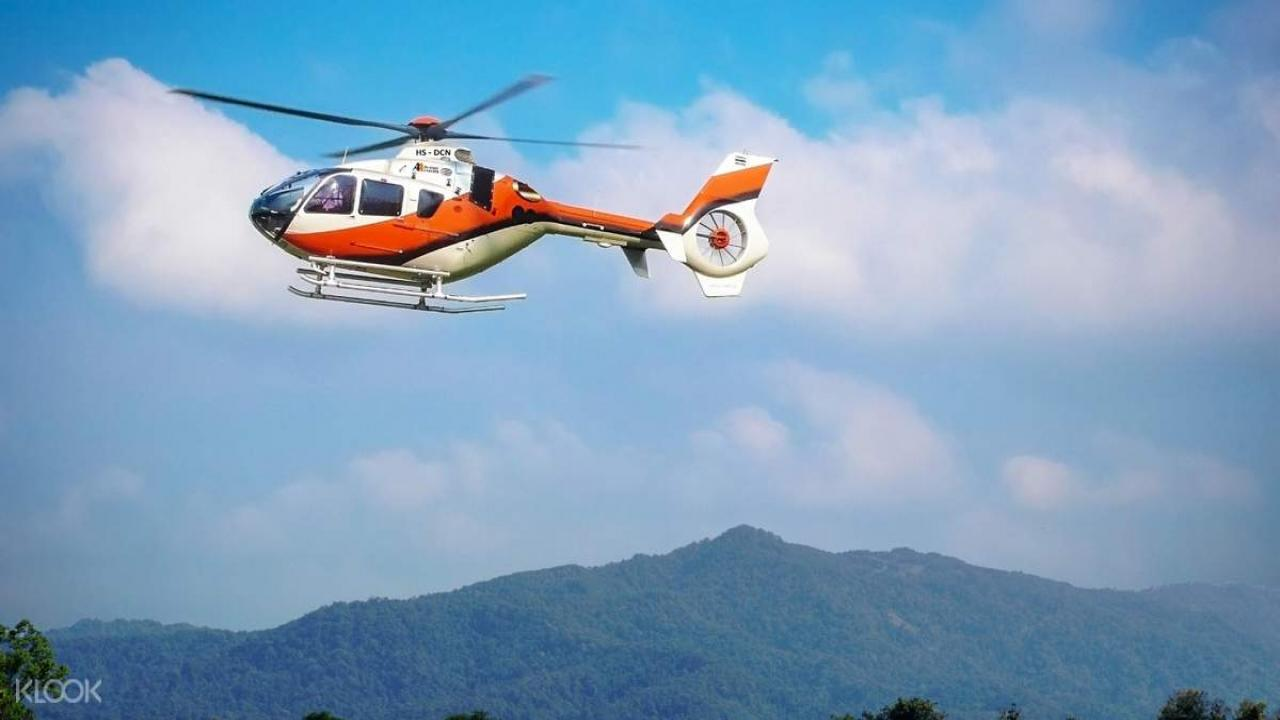Helicopter: (161, 64, 783, 326)
